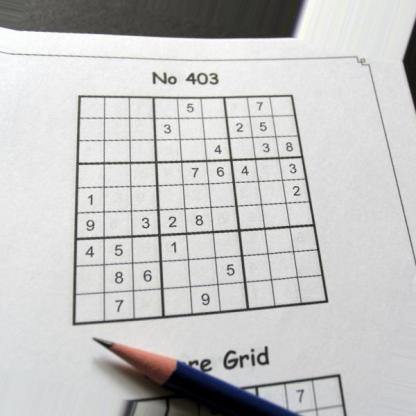sudoku: (69, 91, 331, 329)
